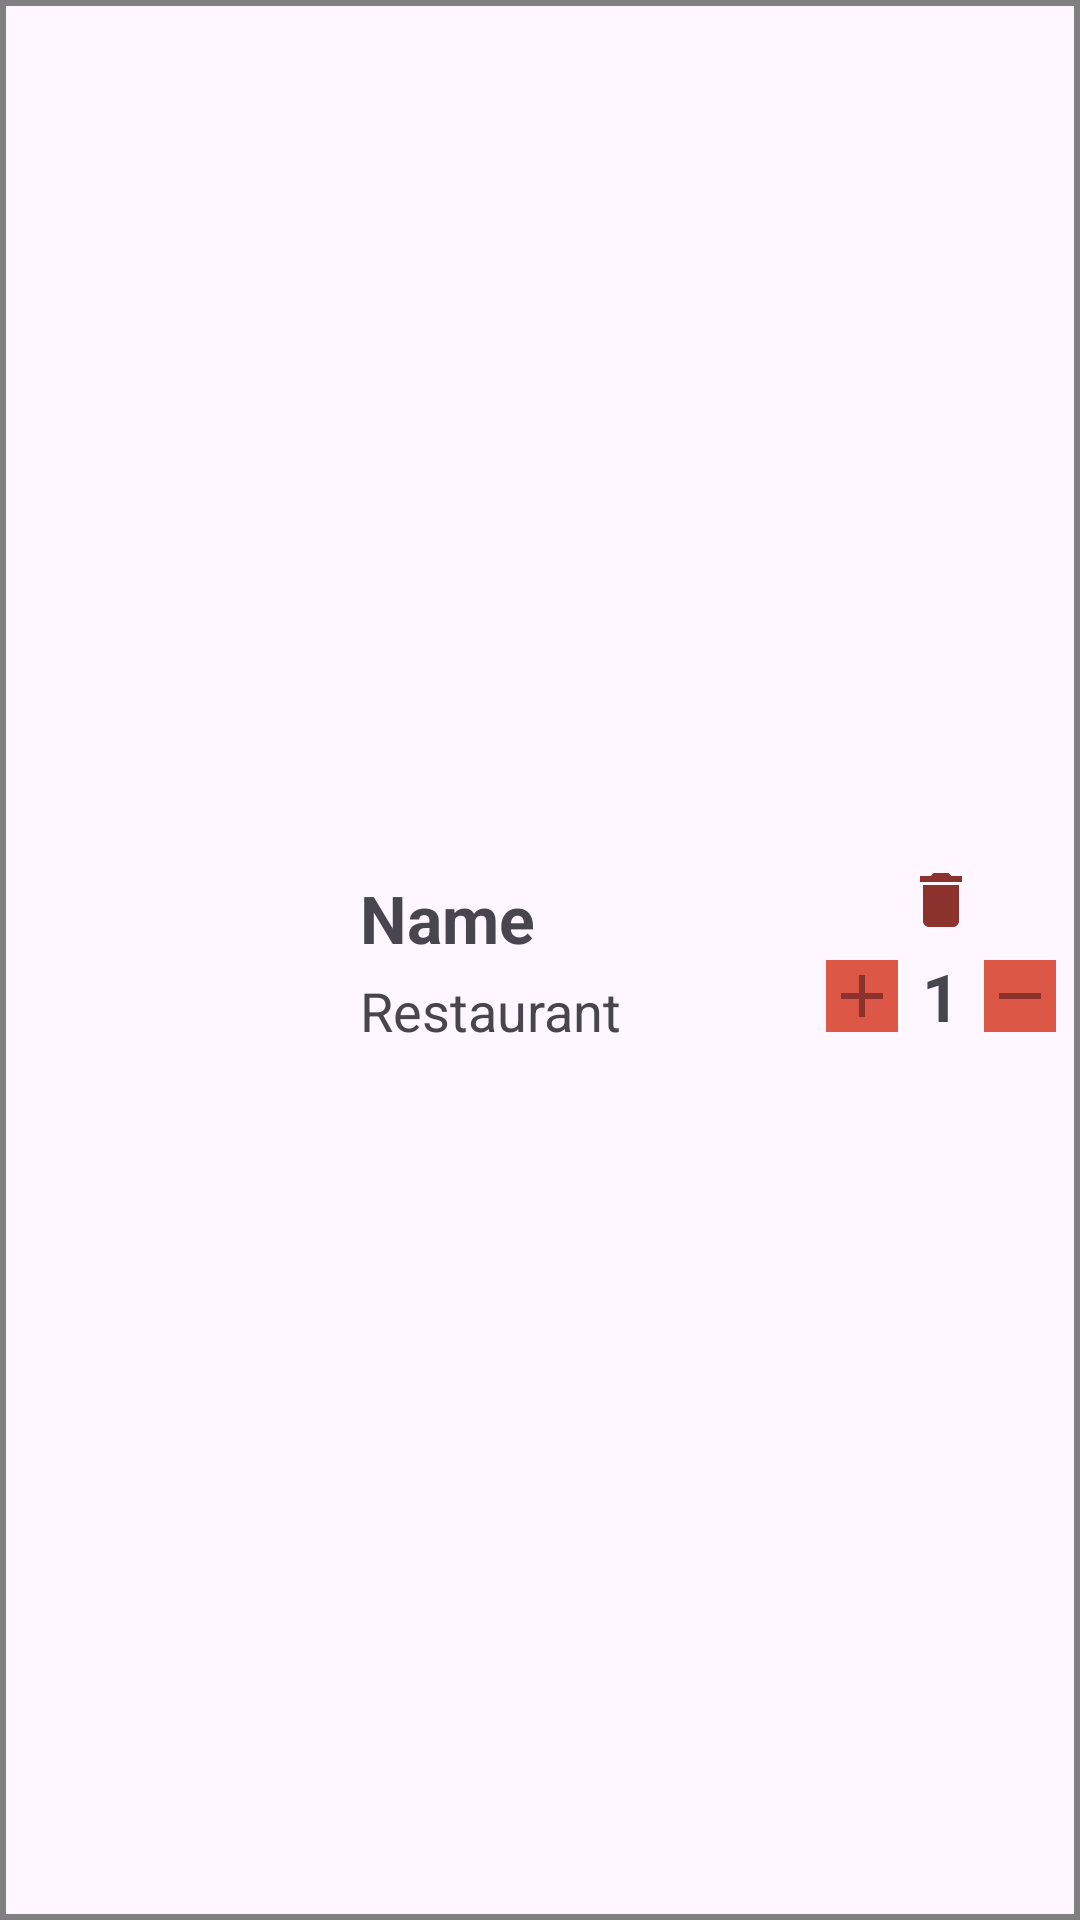

Icons on this 1080px×1920px Android screen, each with its box as (x1, y1, x2, y2):
add: (826, 960, 898, 1032)
remove: (984, 960, 1056, 1032)
trash: (920, 873, 962, 927)
